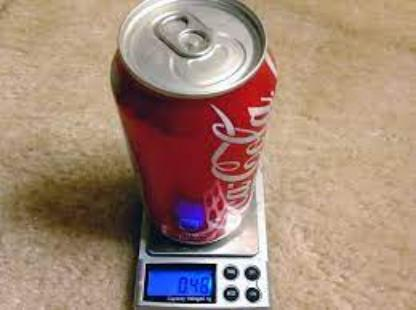Can: (111, 1, 279, 248)
